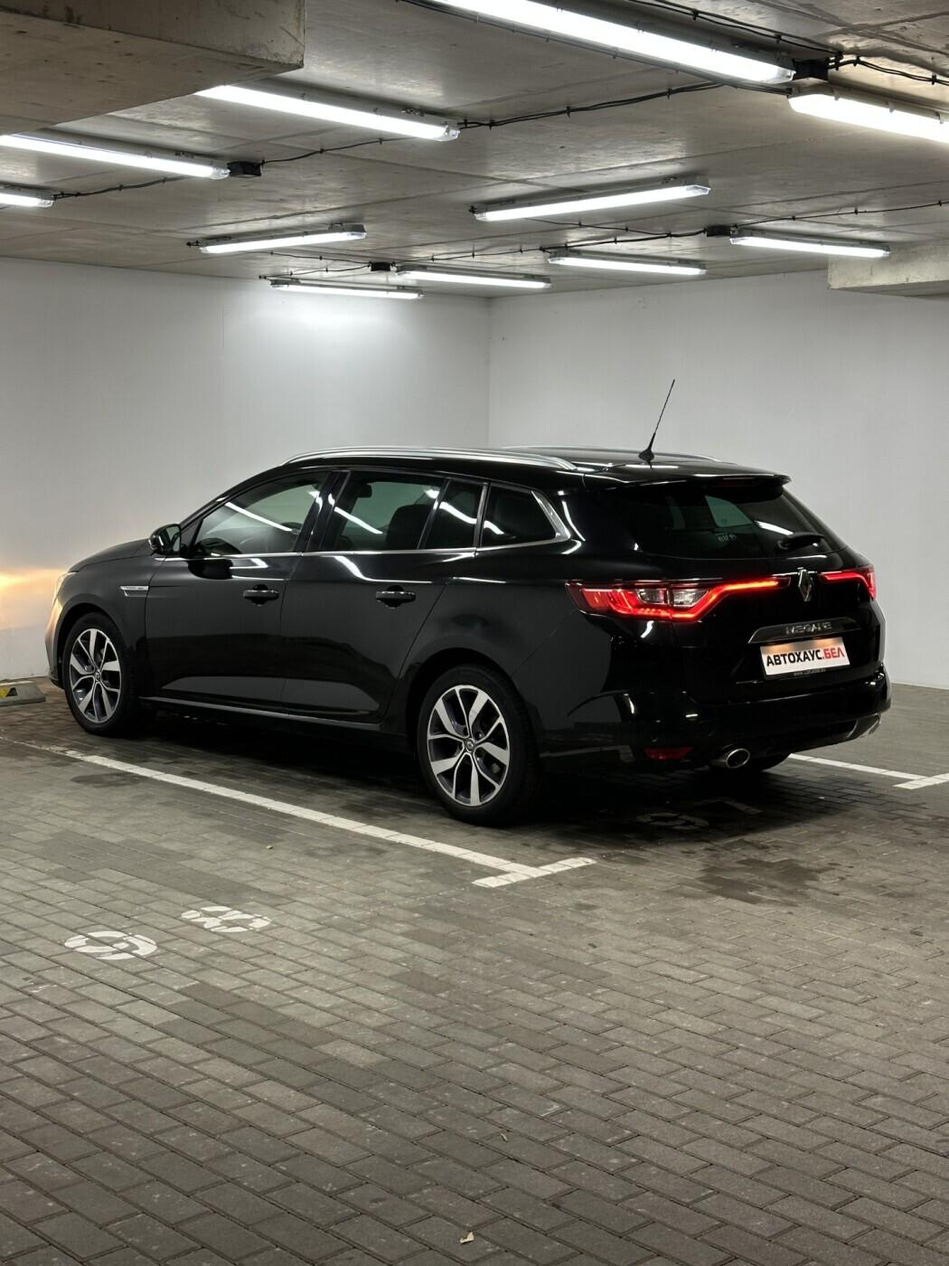Megane_2016-2020: (42, 438, 895, 846)
